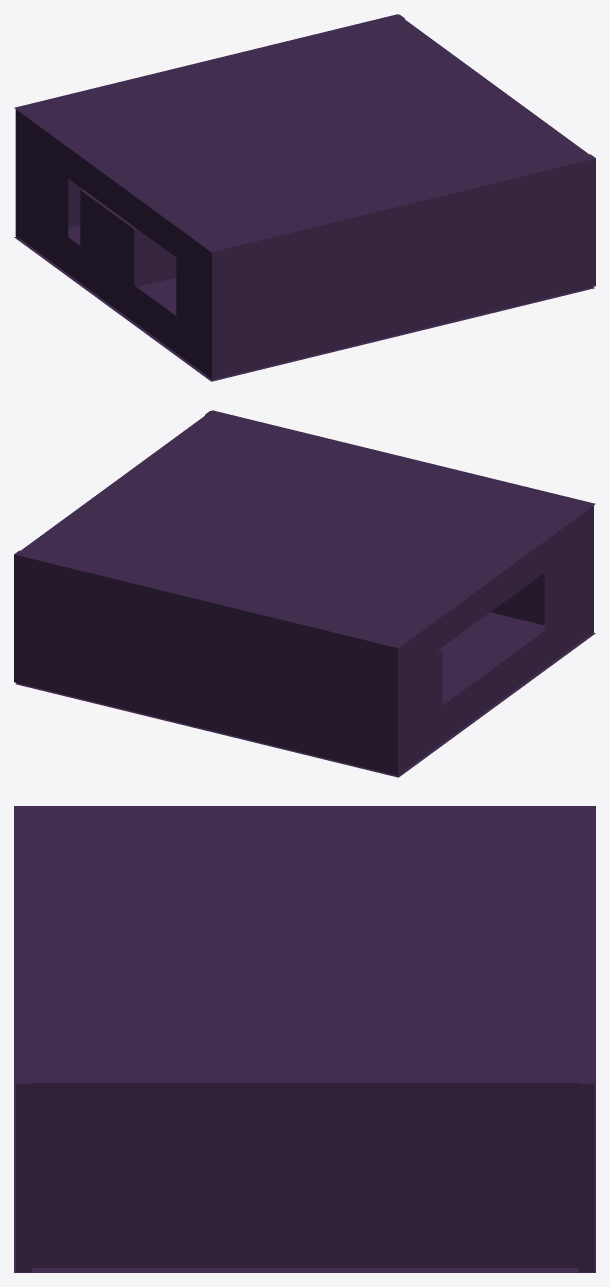
Rendered from komnata.fbx.
The picture shows the model from 3 angles, top to bottom: view 1: azimuth 30°, elevation 25°; view 2: azimuth 150°, elevation 25°; view 3: azimuth 270°, elevation 25°; orthographic projection. The views are drawn at different scales.
Visible parts, largest first — view 1: Plane.001, Cube.007, Cube.005, Cube, Plane, Cube.006; view 2: Plane.001, Cube.006, Cube.005, Plane, Cube.007; view 3: Plane.001, Cube.008, Plane, Cube.006, Cube.007.
Boxes of the visible parts, <box> form: Plane.001: <box>14,14,594,252</box>; Cube.007: <box>206,154,595,379</box>; Cube.005: <box>21,113,206,374</box>; Cube: <box>80,190,176,286</box>; Plane: <box>14,225,594,381</box>; Cube.006: <box>15,14,404,239</box>; Plane.001: <box>15,410,595,648</box>; Cube.006: <box>14,550,403,775</box>; Cube.005: <box>403,509,588,770</box>; Plane: <box>15,612,595,777</box>; Cube.007: <box>205,411,593,636</box>; Plane.001: <box>14,806,595,1081</box>; Cube.008: <box>32,1082,578,1267</box>; Plane: <box>14,1082,595,1272</box>; Cube.006: <box>579,1082,594,1272</box>; Cube.007: <box>16,1082,31,1272</box>.
Size of the model in its own units: 1394 by 454 by 1238.
